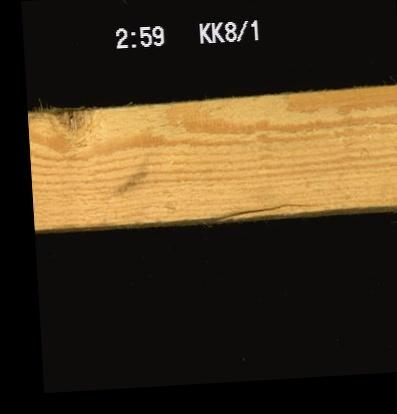edge_knot: (51, 109, 92, 141)
split: (210, 203, 319, 218)
